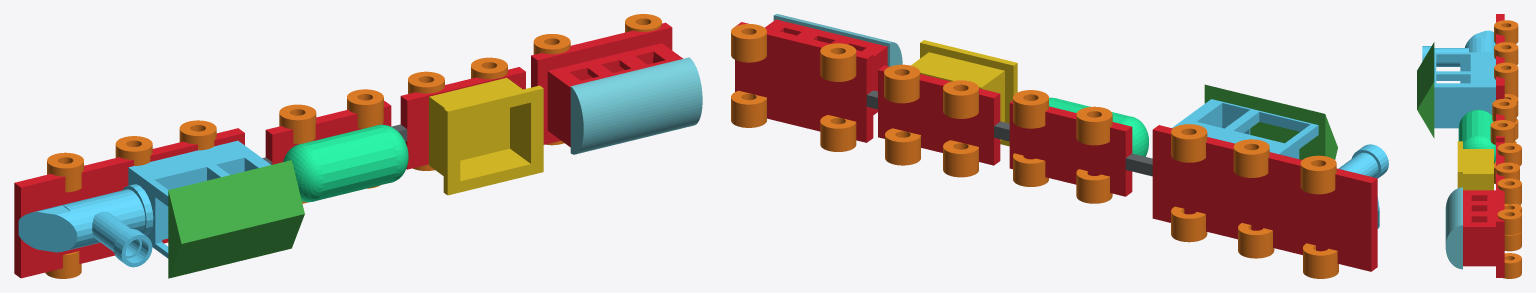
Rendered from tinker.obj.
3 renders of one model, left to right at view 1: azimuth 30°, elevation 25°; view 2: azimuth 150°, elevation 25°; view 3: azimuth 270°, elevation 25°, orthographic. The views are drawn at different scales.
Parts seen in each view (by area): view 1: group_0_15277357, group_0_6412799, group_0_4634441, group_0_15321373, group_0_7720667, group_0_16089887, group_0_2094499; view 2: group_0_15277357, group_0_16089887, group_0_6412799, group_0_15321373, group_0_4634441, group_0_2094499, group_0_7720667, group_0_6383466; view 3: group_0_16089887, group_0_6412799, group_0_15277357, group_0_15321373, group_0_7720667, group_0_4634441, group_0_2094499.
Part boxes in pixels (<box>): group_0_15277357: <box>14,22,682,278</box>; group_0_6412799: <box>18,140,270,267</box>; group_0_4634441: <box>168,160,304,278</box>; group_0_15321373: <box>429,77,543,195</box>; group_0_7720667: <box>570,57,702,154</box>; group_0_16089887: <box>45,14,661,278</box>; group_0_2094499: <box>283,124,408,202</box>; group_0_15277357: <box>735,19,1377,271</box>; group_0_16089887: <box>731,24,1338,278</box>; group_0_6412799: <box>1172,99,1388,228</box>; group_0_15321373: <box>911,40,1017,146</box>; group_0_4634441: <box>1204,84,1337,159</box>; group_0_2094499: <box>1049,97,1148,156</box>; group_0_7720667: <box>773,14,902,66</box>; group_0_6383466: <box>866,90,1152,176</box>; group_0_16089887: <box>1490,20,1521,278</box>; group_0_6412799: <box>1422,30,1495,128</box>; group_0_15277357: <box>1463,14,1504,277</box>; group_0_15321373: <box>1457,141,1493,190</box>; group_0_7720667: <box>1445,187,1462,269</box>; group_0_4634441: <box>1417,42,1434,138</box>; group_0_2094499: <box>1458,109,1495,163</box>.
Bounding box in the file's own units: 286 × 46 × 60.5.
